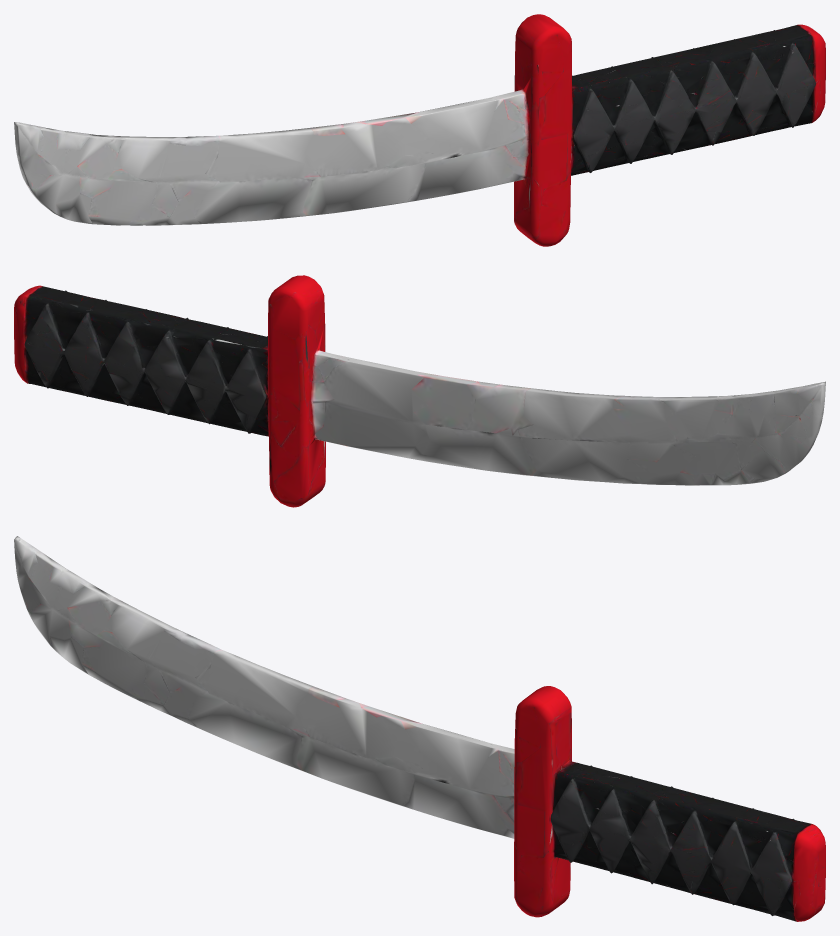
File: katana.glb
The picture shows the model from 3 angles, top to bottom: view 1: azimuth 30°, elevation 25°; view 2: azimuth 150°, elevation 25°; view 3: azimuth 330°, elevation 25°; orthographic projection.
Size of the model in its own units: 1.9 by 0.5553 by 0.1038.
Materials: 1 (1 with a texture image).
